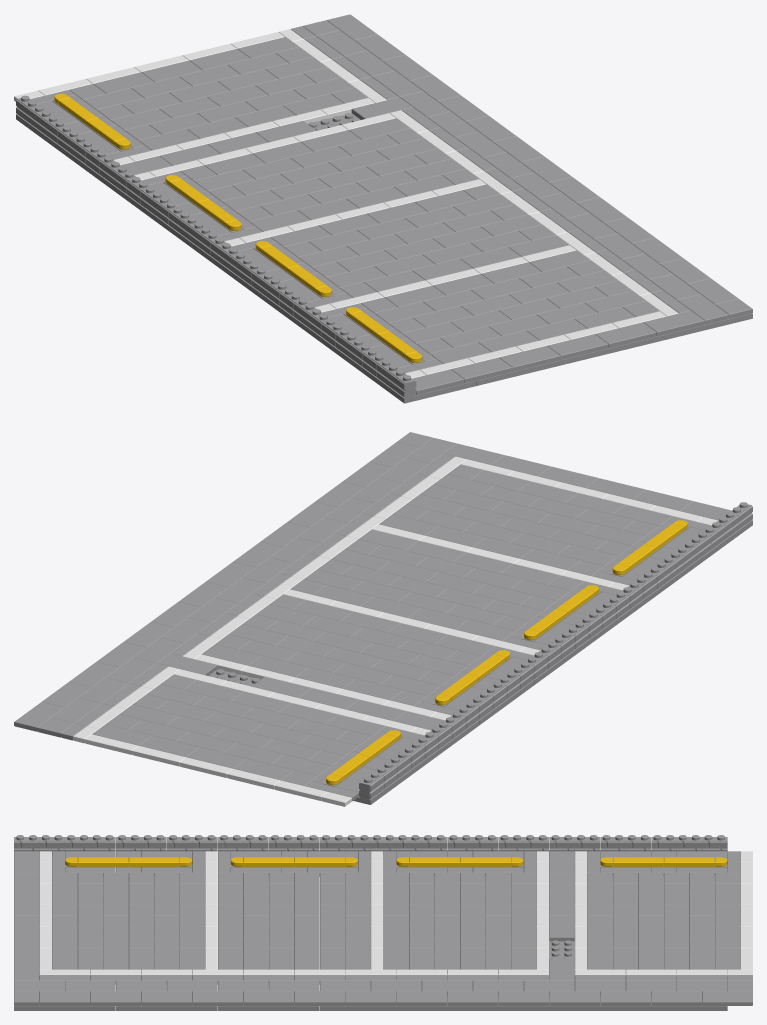
Rendered from Parking Garage for Speed Champions.fbx.
3 views of the same model, one above another, from view 1: azimuth 30°, elevation 25°; view 2: azimuth 150°, elevation 25°; view 3: azimuth 270°, elevation 25° (orthographic). The views are drawn at different scales.
Visible parts, largest first — view 1: part.304, part.241, part.242, part.340, part.240, part.245, part.244, part.093, part.243, part.268, part.188, part.216 (+124 smaller); view 2: part.299, part.268, part.190, part.182, part.184, part.192, part.202, part.216, part.219, part.221, part.245, part.276 (+121 smaller); view 3: part.310, part.260, part.261, part.262, part.265, part.266, part.263, part.264, part.257, part.258, part.259, part.267 (+186 smaller).
Part boxes in pixels (x1,y1,x2,y2): part.304: (560,313,752,365); part.241: (451,357,512,383); part.242: (547,334,608,359); part.340: (595,322,656,348); part.240: (499,346,560,371); part.245: (643,310,704,336); part.244: (412,369,464,395); part.093: (349,358,476,403); part.243: (677,294,728,324); part.268: (351,97,412,119); part.188: (308,229,369,251); part.216: (280,162,341,183); part.299: (14,702,64,731); part.268: (157,653,217,675); part.190: (398,592,458,613); part.182: (473,537,533,558); part.184: (426,526,486,547); part.192: (351,581,411,602); part.202: (359,529,418,550); part.216: (323,647,383,668); part.219: (361,643,420,664); part.221: (266,620,326,641); part.245: (444,443,504,464); part.276: (184,680,244,701); part.310: (523,920,625,1010); part.260: (243,991,294,1005); part.261: (192,991,243,1005); part.262: (141,991,192,1005); part.265: (90,991,141,1005); part.266: (39,991,90,1005); part.263: (294,991,345,1005); part.264: (345,991,396,1005); part.257: (498,991,548,1005); part.258: (447,991,497,1005); part.259: (396,991,446,1005); part.267: (549,991,599,1005).
Bounding box in the file's own units: 23192 × 1458 × 46392.
